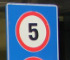speed_limit_5: (6, 3, 59, 60)
